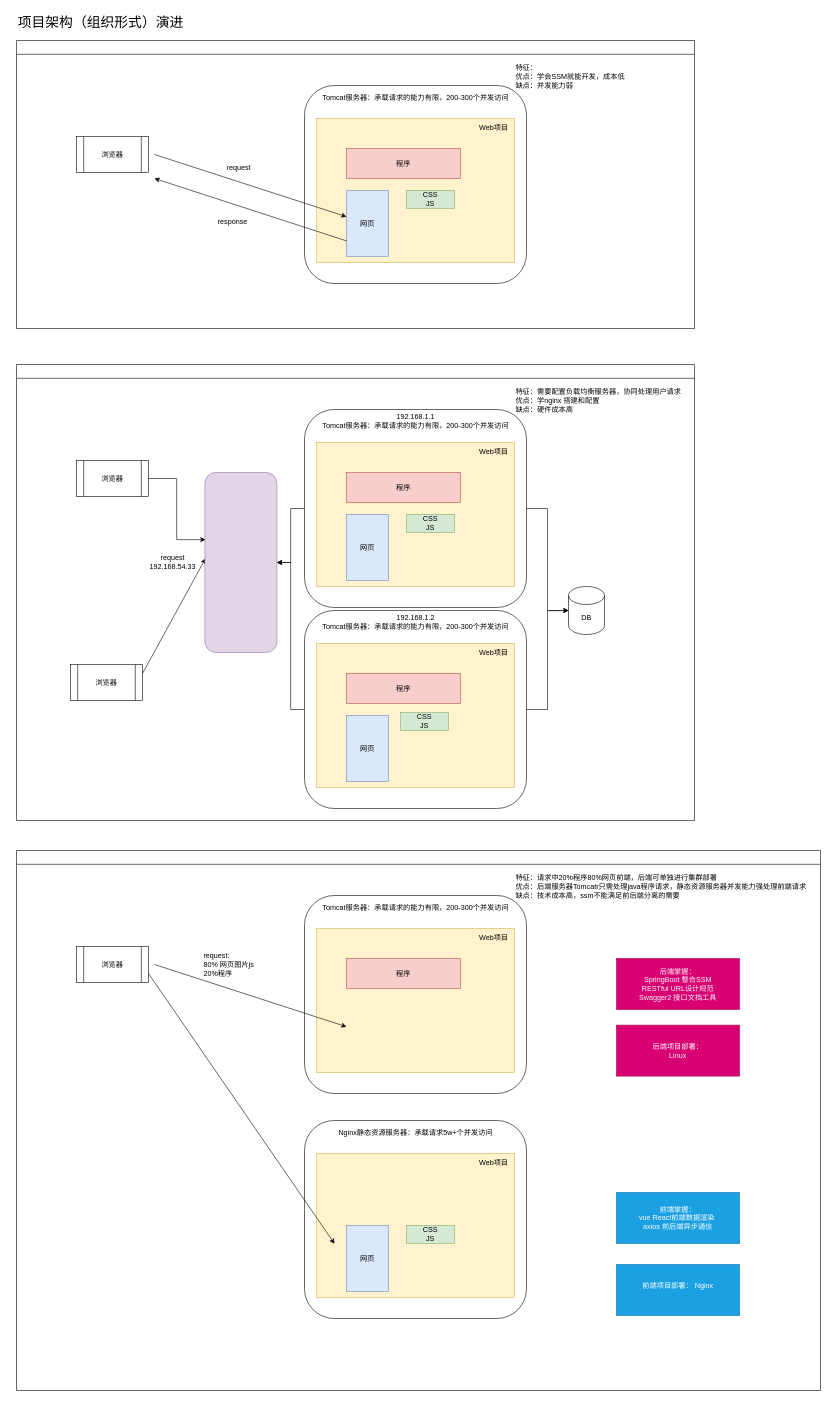
This 831x1401 diagram has some shape labels left out. Here are the shapes that lost their labels. From the top down, the box of each, then its label:
(16, 40, 694, 328): 单体项目：前端后端部署在一个服务器
(204, 472, 277, 652): 192.168.54.33 负载均衡服务器 Nginx （控制转发）
(16, 364, 694, 820): 集群项目：将同样的项目部署到多个服务器
(16, 850, 820, 1390): 前后端分离项目：同个项目的前端网页部分和后端程序部分进行分离
